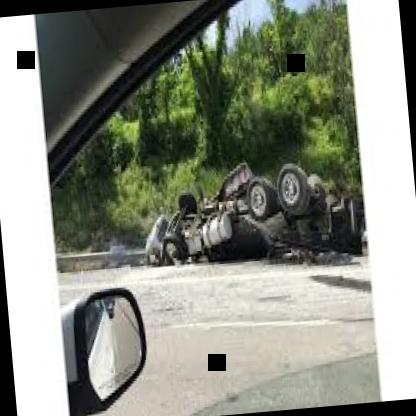accident: (120, 155, 386, 330)
